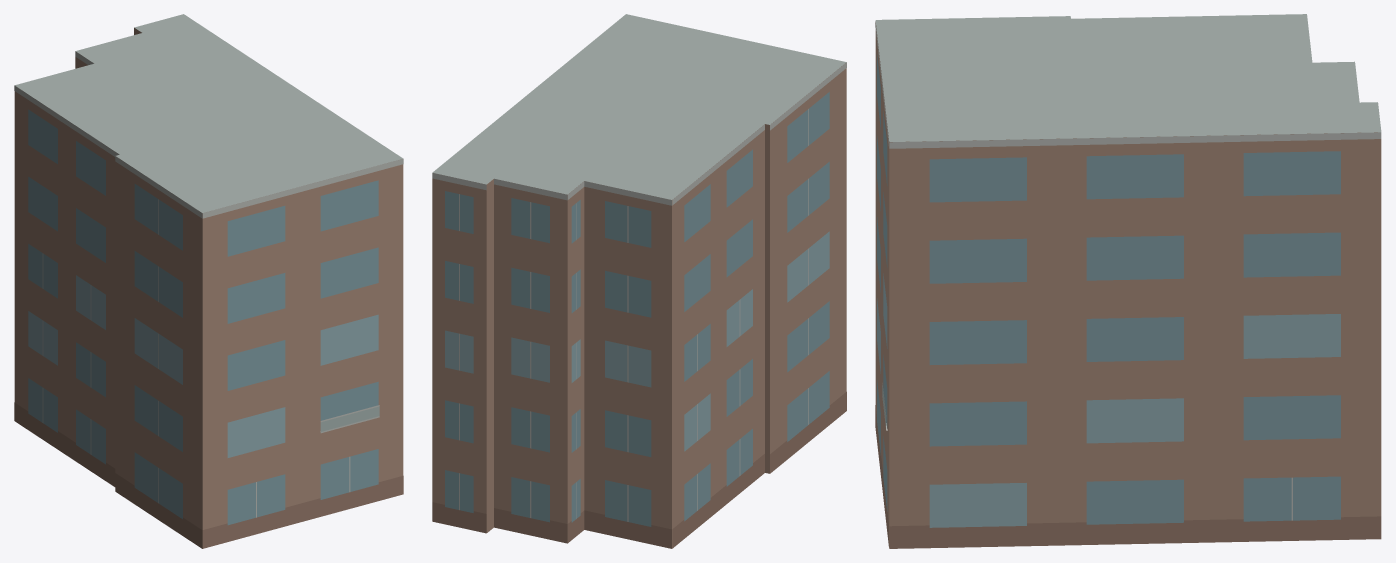
File: survey-upis-32959258.glb
3 views of the same model, side by side, from view 1: azimuth 30°, elevation 25°; view 2: azimuth 150°, elevation 25°; view 3: azimuth 270°, elevation 25° (orthographic). The views are drawn at different scales.
Parts seen in each view (by area): view 1: survey-upis-32959258.tmp; view 2: survey-upis-32959258.tmp; view 3: survey-upis-32959258.tmp.
Boxes of the visible parts, x1,y1,x2,y2 form: survey-upis-32959258.tmp: (14, 14, 403, 548); survey-upis-32959258.tmp: (432, 14, 846, 548); survey-upis-32959258.tmp: (875, 14, 1381, 548).
Size of the model in its own units: 10.01 by 14.8 by 16.69.
